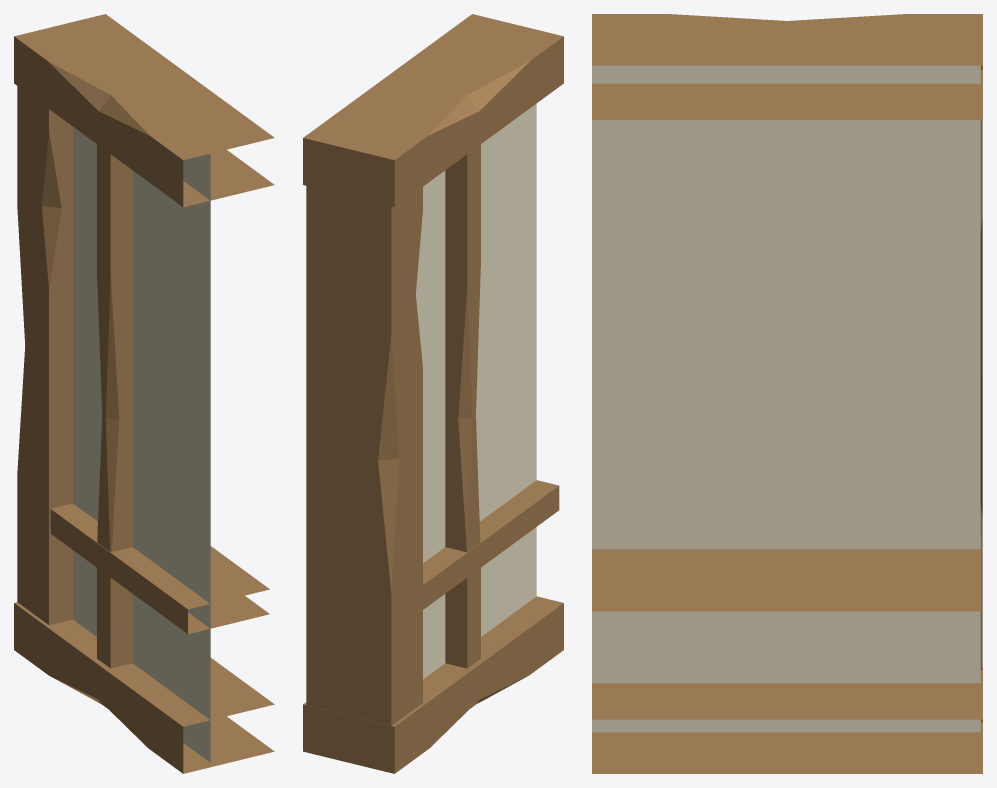
File: SFV_Wall_Wooden_S_Empty_002.fbx
The picture shows the model from 3 angles, left to right: view 1: azimuth 30°, elevation 25°; view 2: azimuth 150°, elevation 25°; view 3: azimuth 270°, elevation 25°; orthographic projection. The views are drawn at different scales.
Visible parts, largest first — view 1: SFV_Wall_Wooden_S_Empty_002; view 2: SFV_Wall_Wooden_S_Empty_002; view 3: SFV_Wall_Wooden_S_Empty_002.
Boxes of the visible parts, x1=… form: SFV_Wall_Wooden_S_Empty_002: x1=14, y1=14, x2=274, y2=773; SFV_Wall_Wooden_S_Empty_002: x1=303, y1=14, x2=563, y2=773; SFV_Wall_Wooden_S_Empty_002: x1=592, y1=14, x2=982, y2=773.
Size of the model in its own units: 46.87 by 300 by 150.
